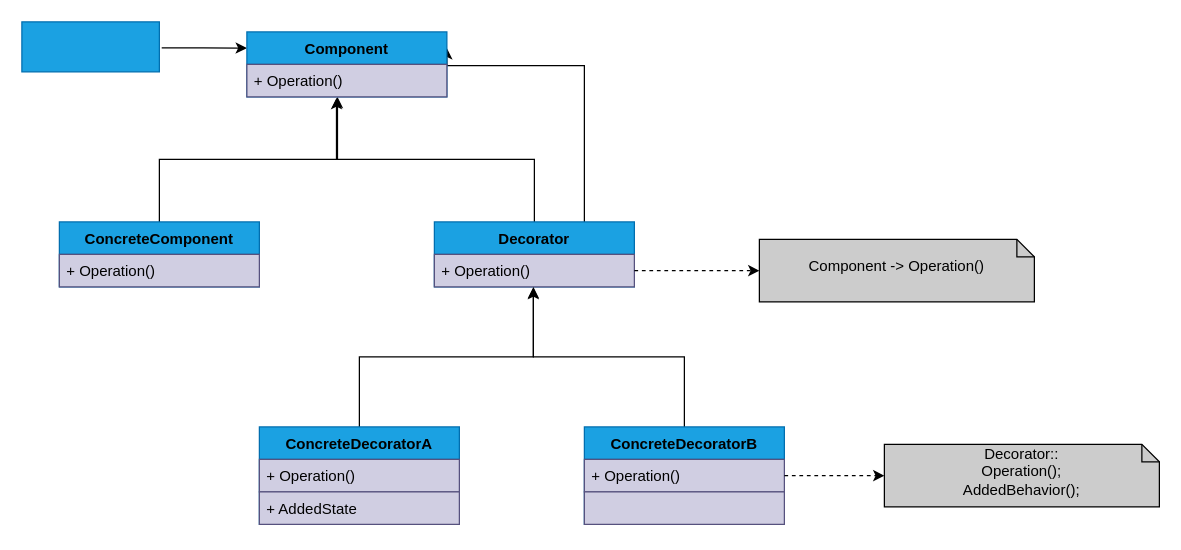
Some shapes in this 1181 by 550 pixel diagram are drawn without their labels. The centre of each missing label's shape, as x and y in pixels:
"+ AddedBehavior()" goes at [683,507].
"Client" goes at [90,46].
